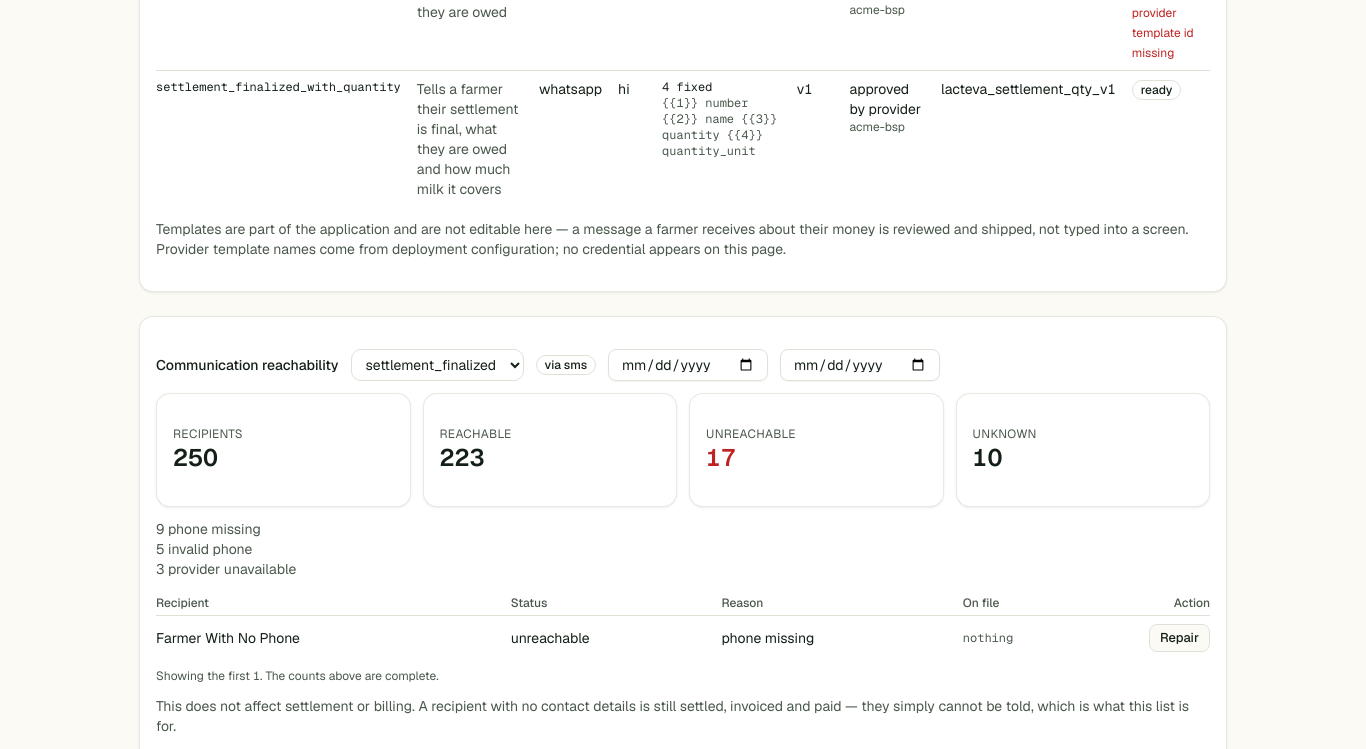
Test: contact repair › scopes the report to a settlement period when dates are given
The image size is (1366, 749).
(page scrolled)
Expected: the text "223" is shown, [440,442,484,473]
Type "2026-08-01" into the date field named "Period from" at (688, 365), box [608,349,768,381]
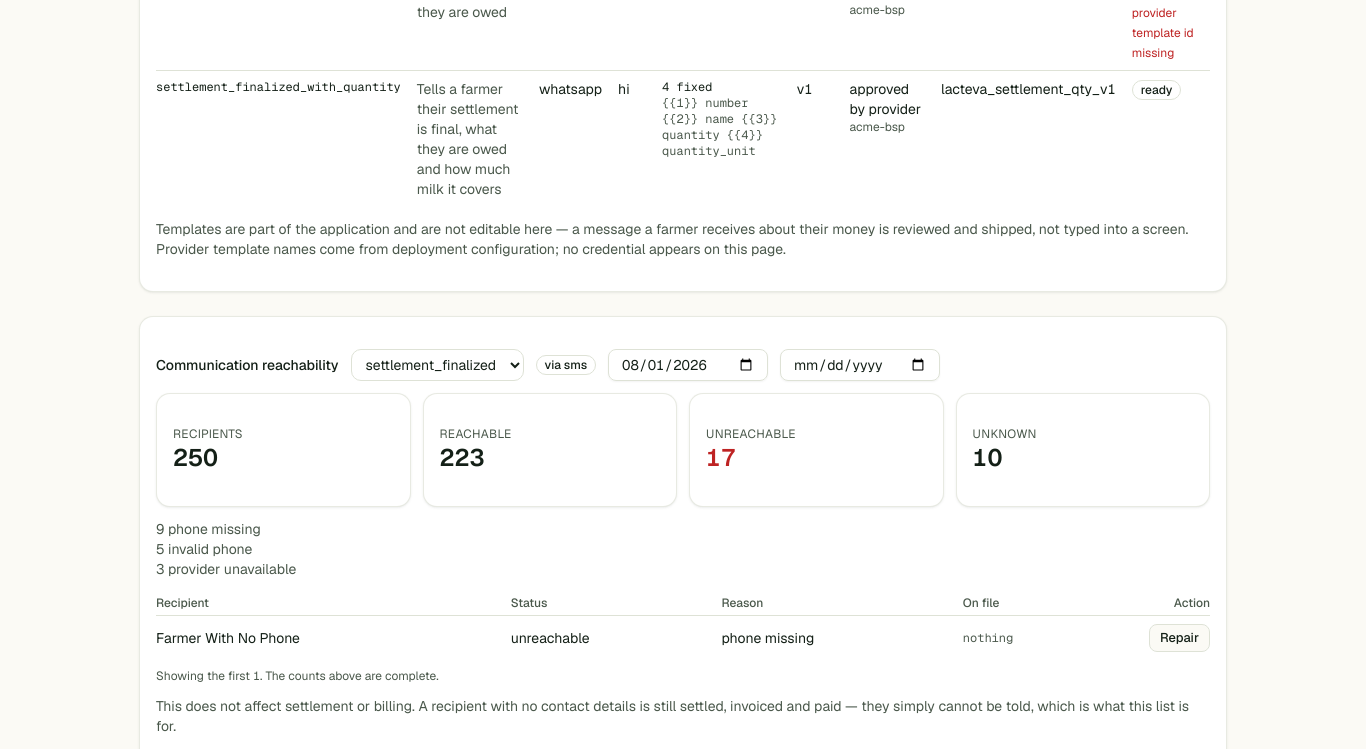
Type "2026-08-15" into the date field named "Period to" at (860, 365), box [780,349,940,381]
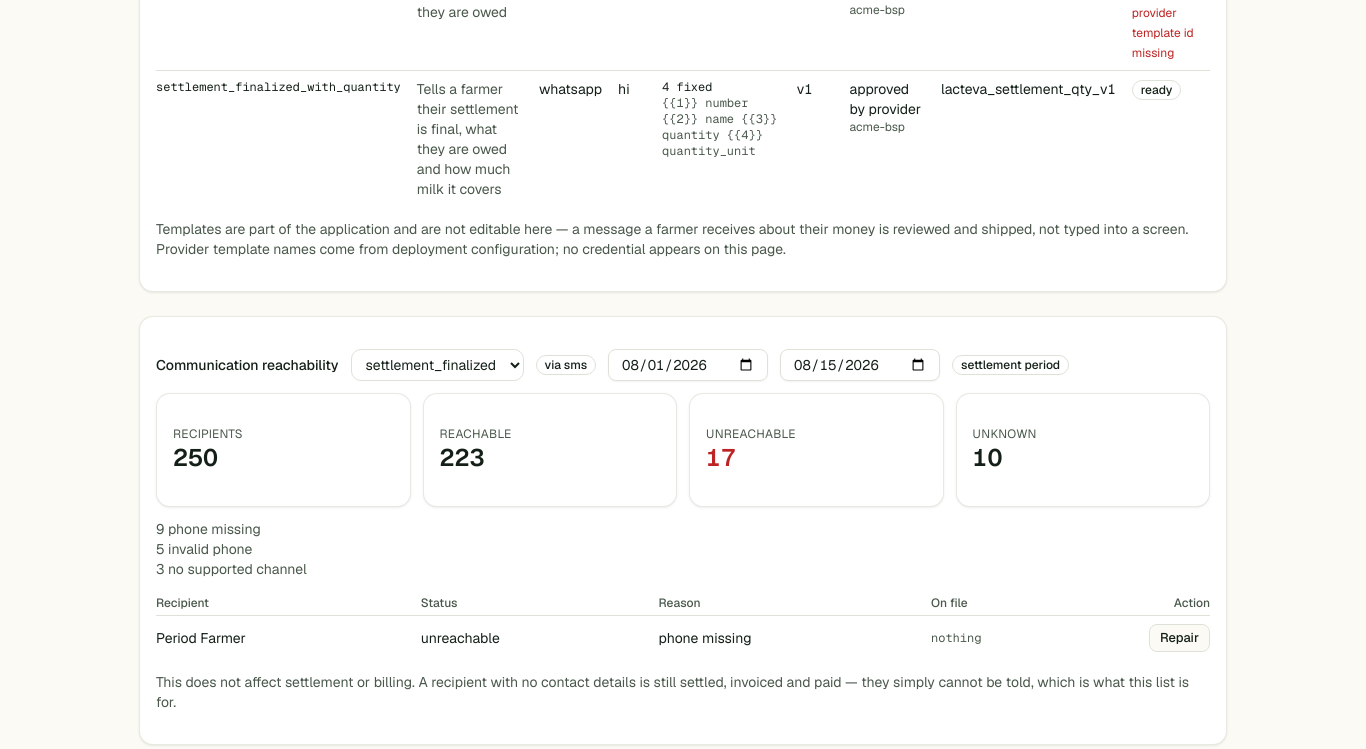
Expected: the text "settlement period" is shown, [952,355,1069,375]
